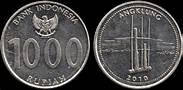coin_1000_e2010: (93, 0, 183, 90), (0, 0, 89, 90)
